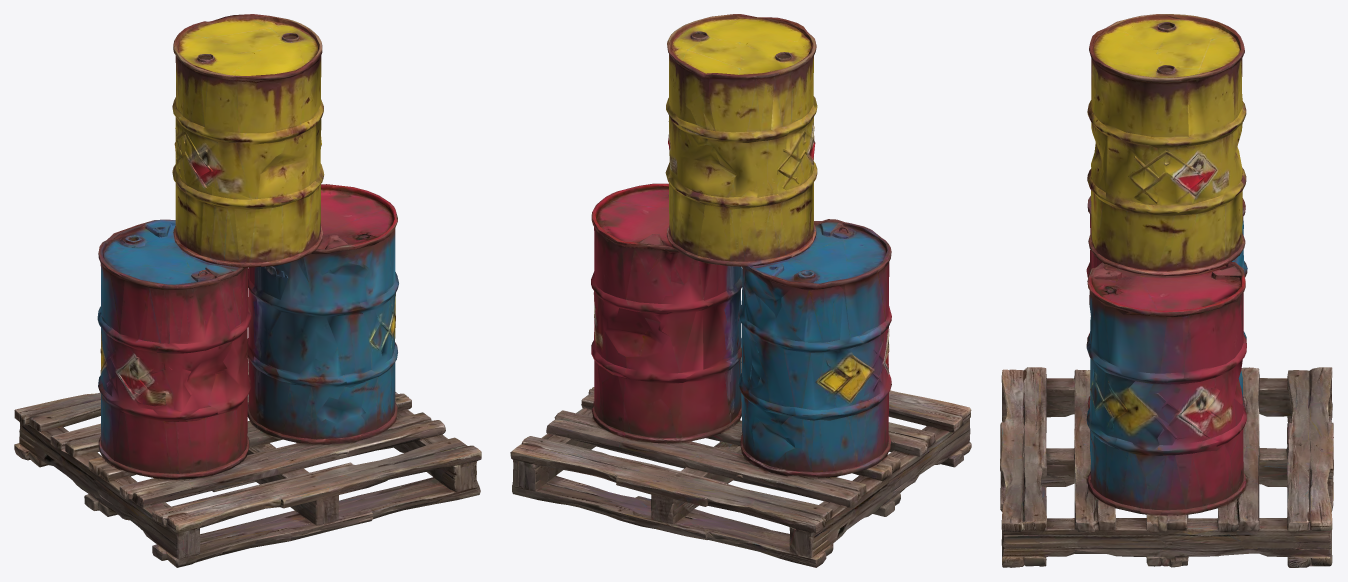
The model's file is prop-drumstack.glb.
3 views of the same model, side by side, from view 1: azimuth 30°, elevation 25°; view 2: azimuth 150°, elevation 25°; view 3: azimuth 270°, elevation 25° (orthographic). The views are drawn at different scales.
Size of the model in its own units: 1.43 by 1.9 by 1.29.
Materials: 1 (1 with a texture image).
